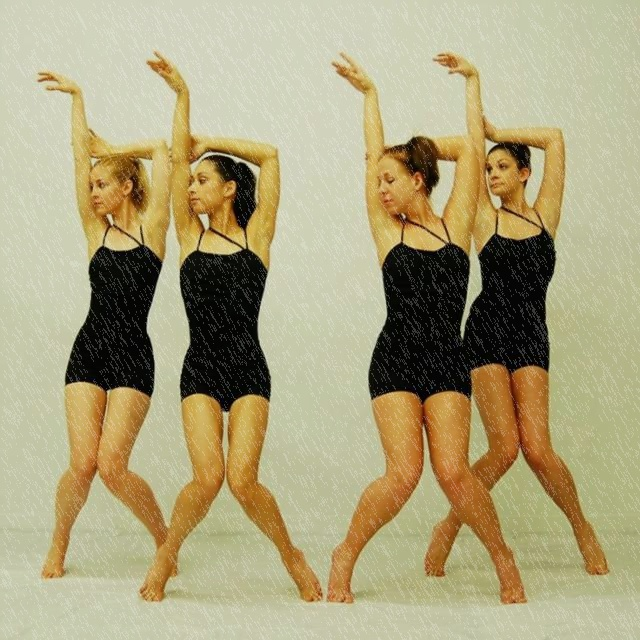pessoa: (319, 49, 532, 610), (136, 45, 326, 608), (420, 46, 615, 585), (31, 65, 182, 584)
